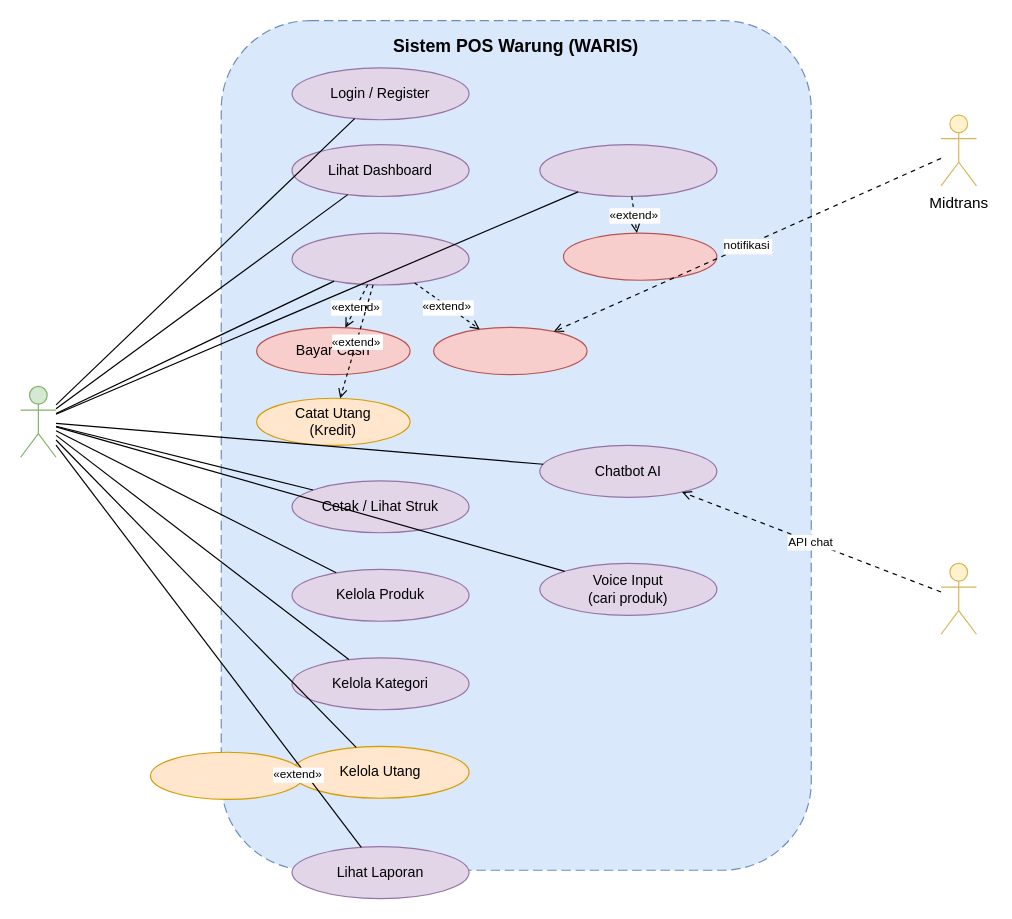
This 1012x919 diagram has some shape labels left out. The box of each missing label's shape, as (x1, y1, x2, y2) in pixels:
Bayar Cicilan Utang: (149, 751, 304, 799)
Bayar QRIS (Midtrans Snap): (432, 326, 587, 375)
Export PDF / Excel: (562, 232, 717, 280)
Kasir: (19, 385, 56, 457)
Lihat Riwayat: (539, 143, 717, 196)
Ollama AI: (940, 562, 976, 634)
Transaksi POS: (291, 232, 469, 285)
